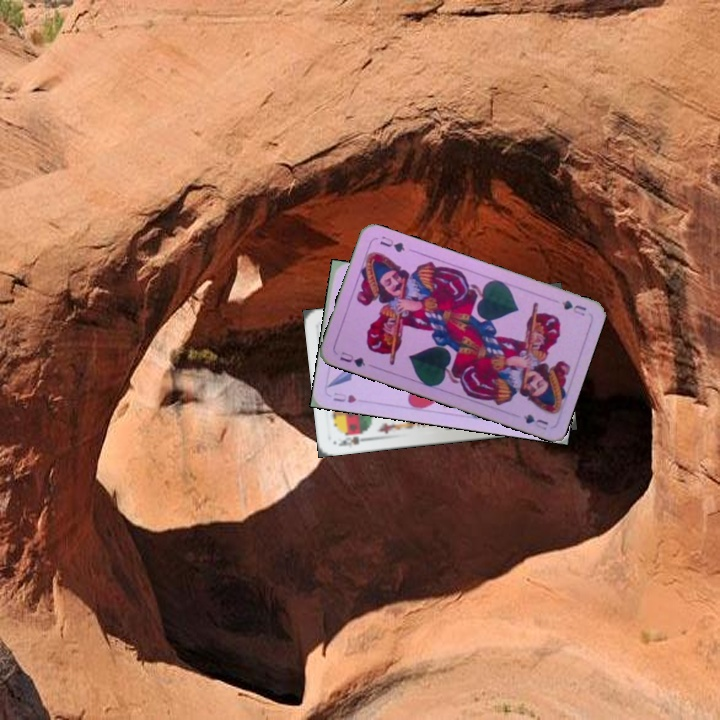GU: (336, 348, 368, 370), (558, 296, 589, 318)
HU: (329, 389, 359, 405)
SK: (334, 428, 372, 449)
